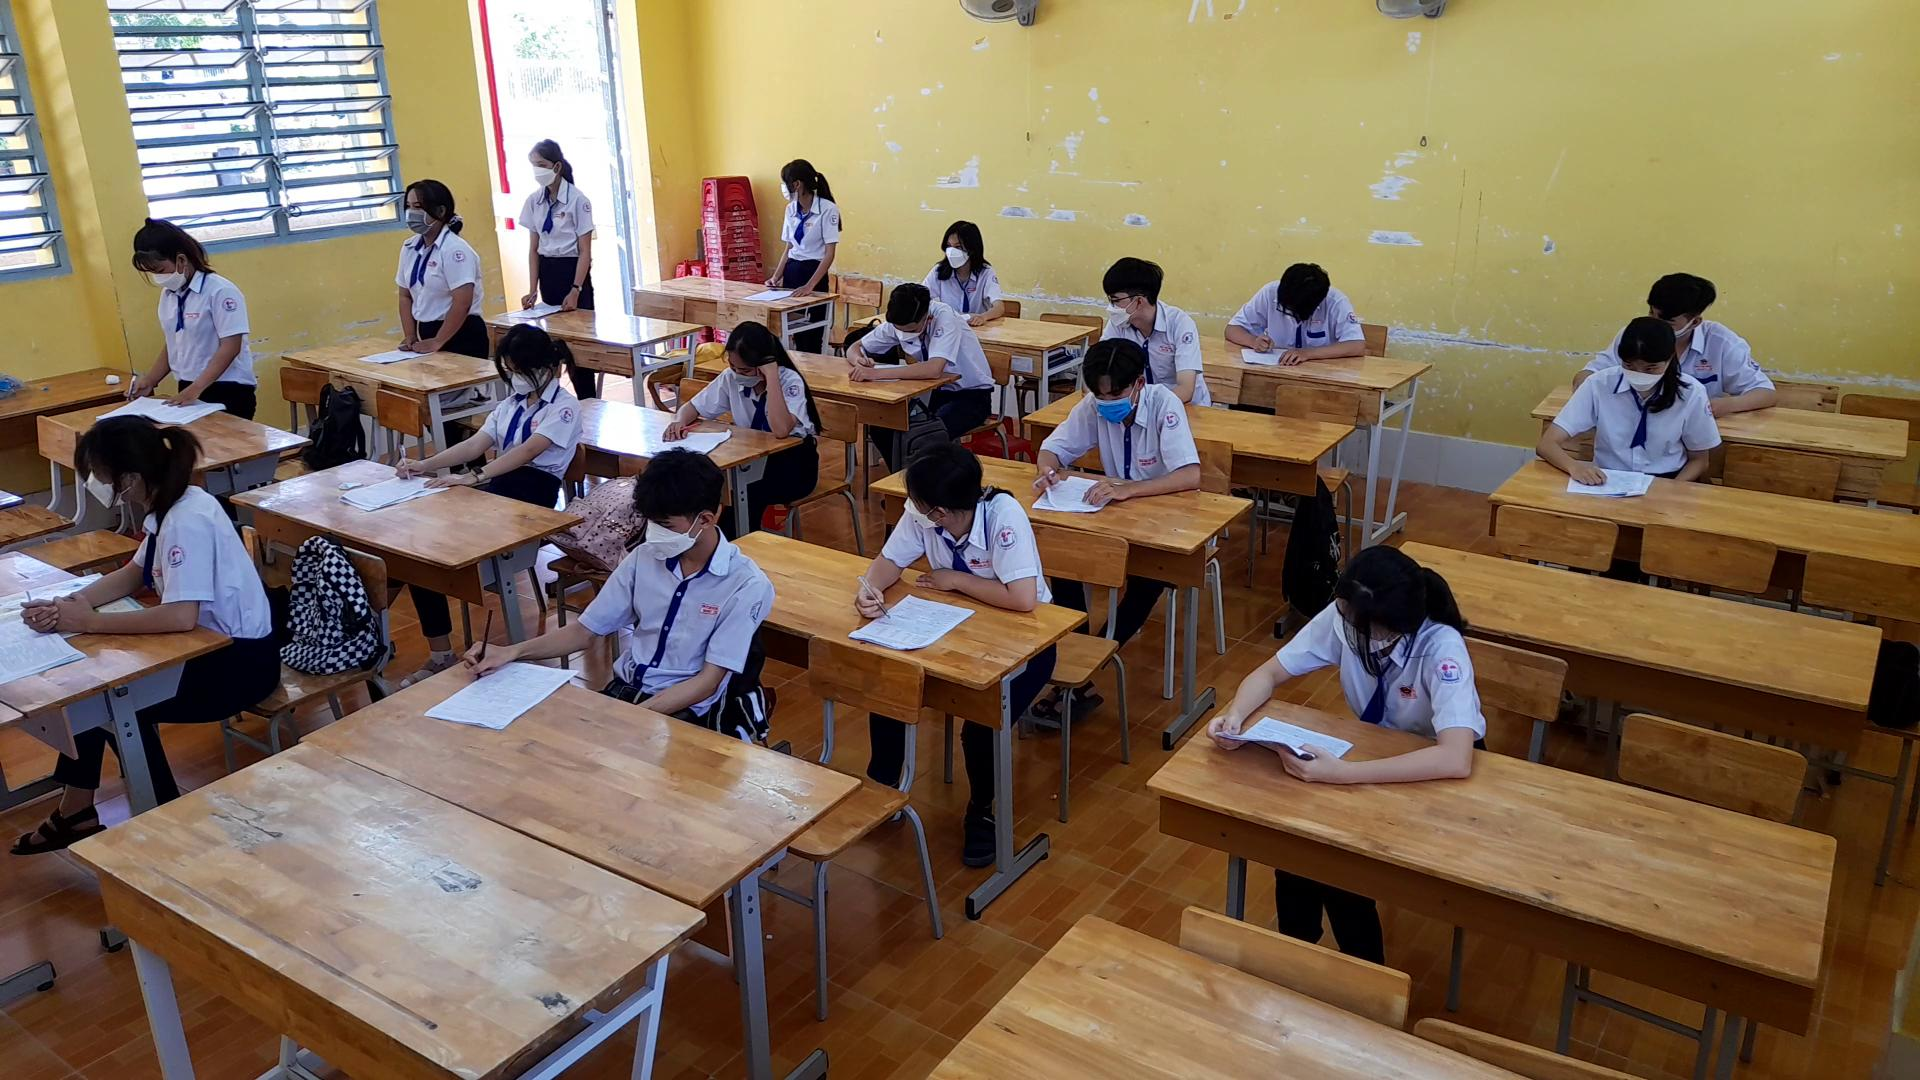Hand Under Table: (640, 560, 774, 723), (1663, 375, 1727, 489)
Look Around: (1083, 240, 1164, 334)
Normal: (1197, 531, 1486, 781), (384, 316, 592, 492), (1023, 334, 1207, 513), (835, 272, 1001, 398), (1215, 245, 1381, 371), (930, 212, 1011, 334)
Stand Up: (116, 210, 262, 421), (388, 156, 497, 368), (500, 127, 601, 319), (753, 137, 845, 305)
Wave: (752, 351, 808, 443)
